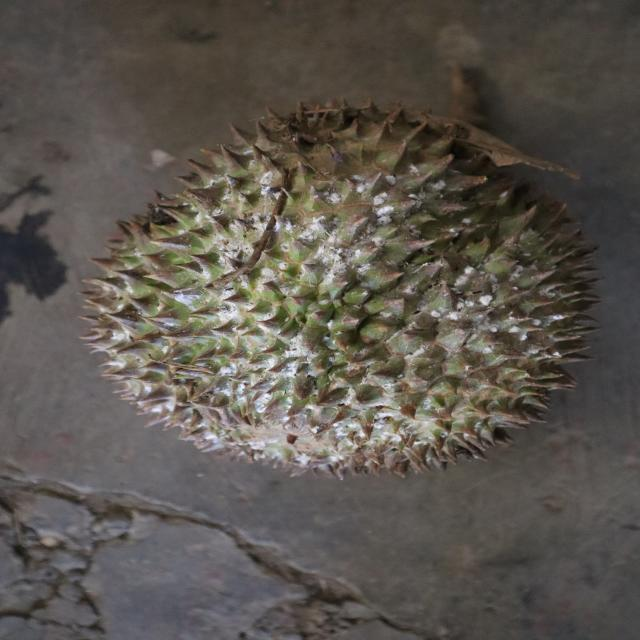defective: (85, 102, 599, 476)
